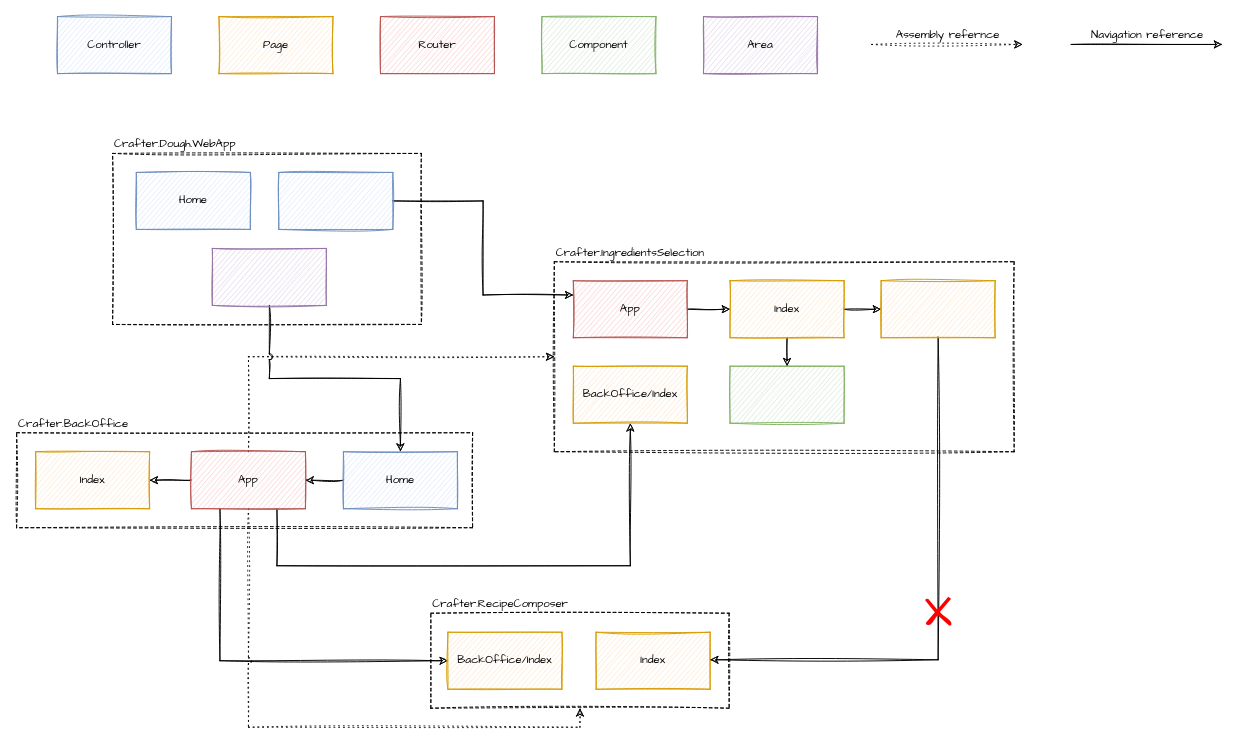
Some shapes in this 1246 by 751 pixel diagram are drawn without their labels. Each missing label, with the centre of its shape:
BackOffice: point (268, 276)
Ingredients: point (786, 394)
IngredientsQuantity: point (937, 309)
IngriedentsSelection: point (335, 200)
